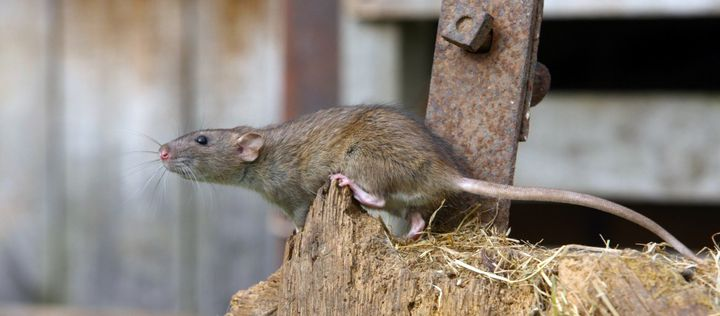rat: (140, 95, 570, 254)
